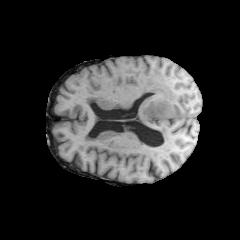glioma: (85, 69, 181, 125)
